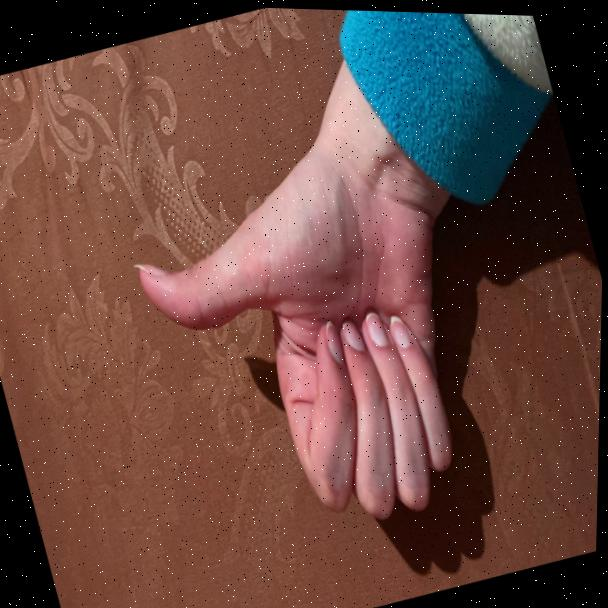five: (94, 71, 504, 580)
